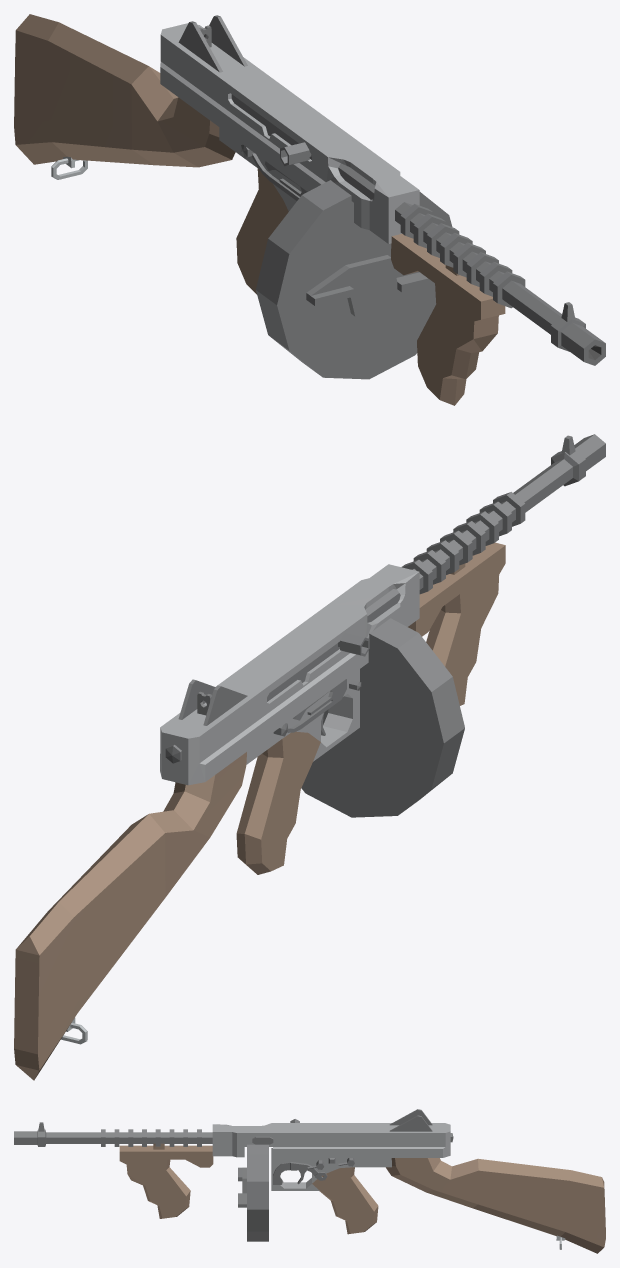
File: SMG.fbx
3 views of the same model, one above another, from view 1: azimuth 30°, elevation 25°; view 2: azimuth 150°, elevation 25°; view 3: azimuth 270°, elevation 25° (orthographic). The views are drawn at different scales.
Visible parts, largest first — view 1: SM_Wep_SubMachineGun_01_2; view 2: SM_Wep_SubMachineGun_01_2; view 3: SM_Wep_SubMachineGun_01_2.
Part boxes in pixels (<box>): SM_Wep_SubMachineGun_01_2: <box>14,14,605,405</box>; SM_Wep_SubMachineGun_01_2: <box>14,434,605,1080</box>; SM_Wep_SubMachineGun_01_2: <box>14,1109,605,1253</box>.
Bounding box in the file's own units: 16.06 × 22.56 × 85.74.
